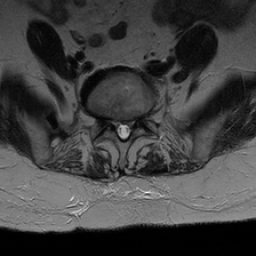CCS_normal: (120, 114, 126, 144)
LFS_severe_stenosis: (133, 110, 141, 130)
LLS_normal: (126, 114, 133, 138)
RFS_severe_stenosis: (105, 110, 113, 130)
RLS_normal: (114, 114, 120, 136)
